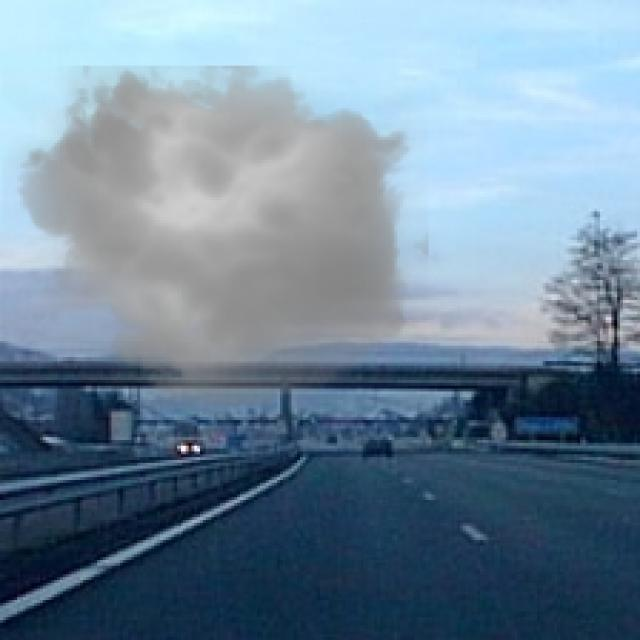smoke: (3, 49, 428, 420)
